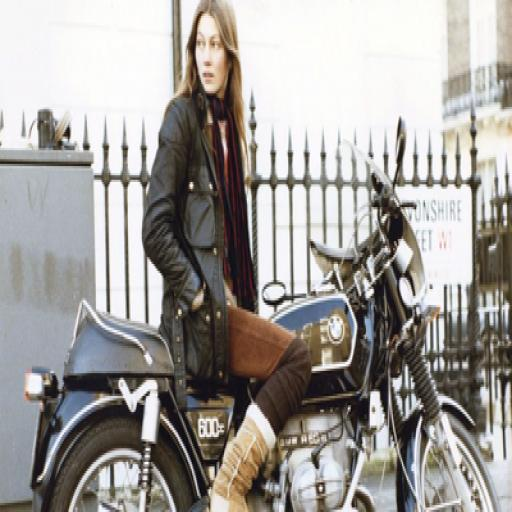Without Helmet: (186, 0, 240, 105)
